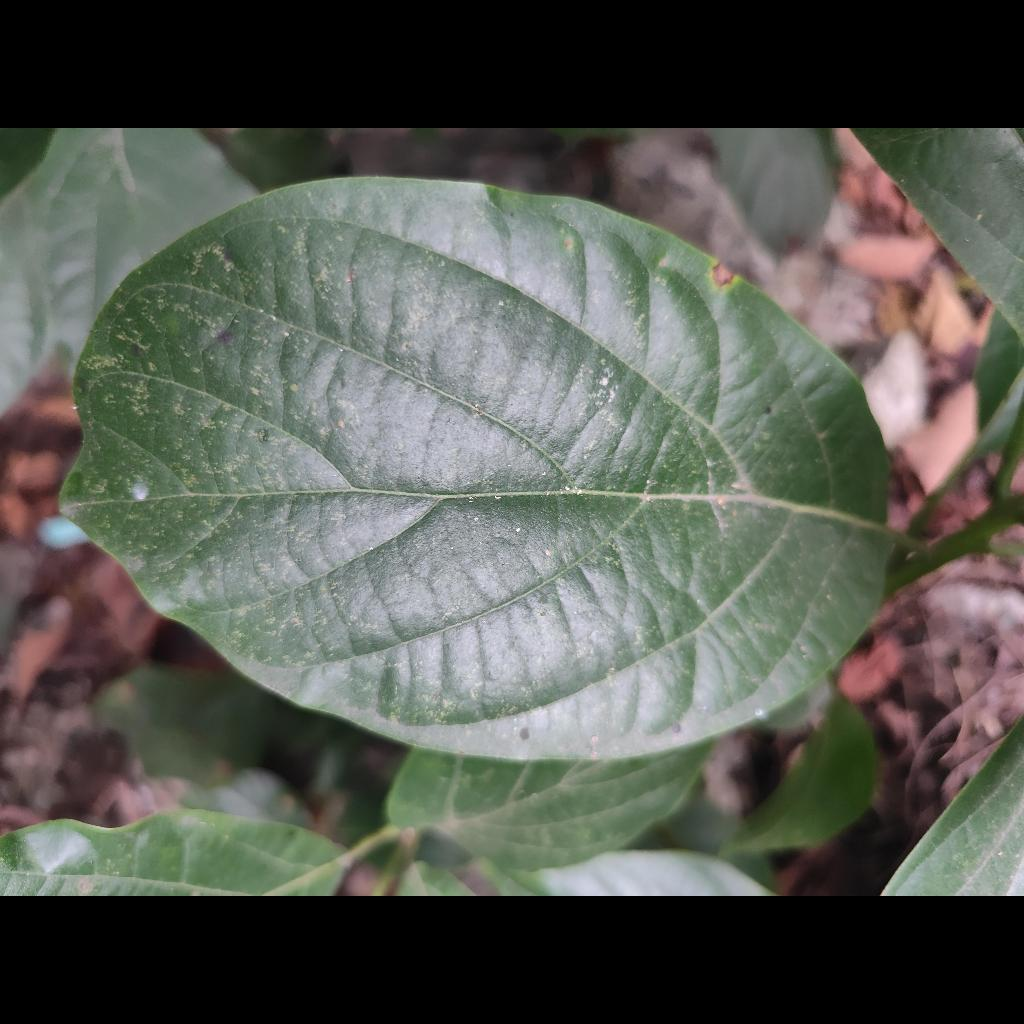antracnosis_hoja: (63, 179, 897, 758)
